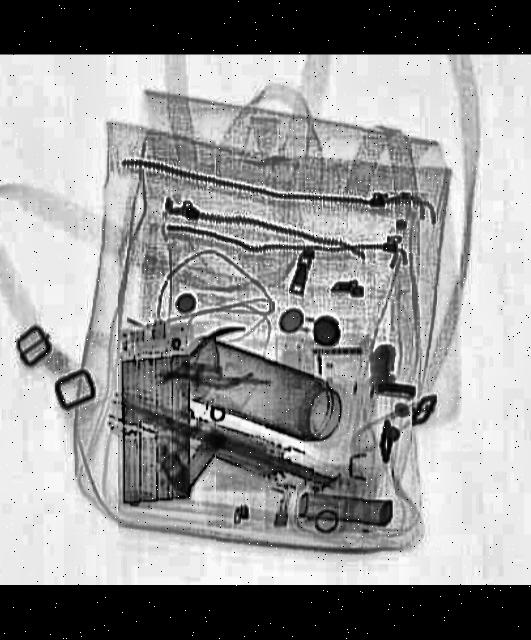Pliers: (146, 323, 261, 404)
